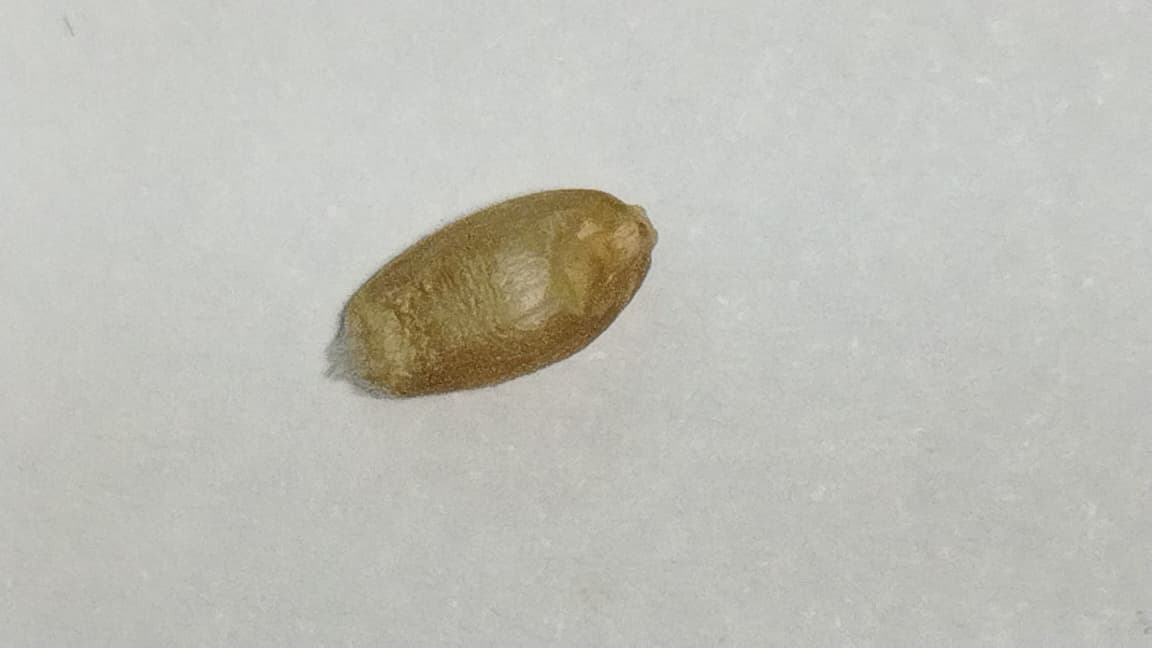healthy: (334, 190, 655, 396)
